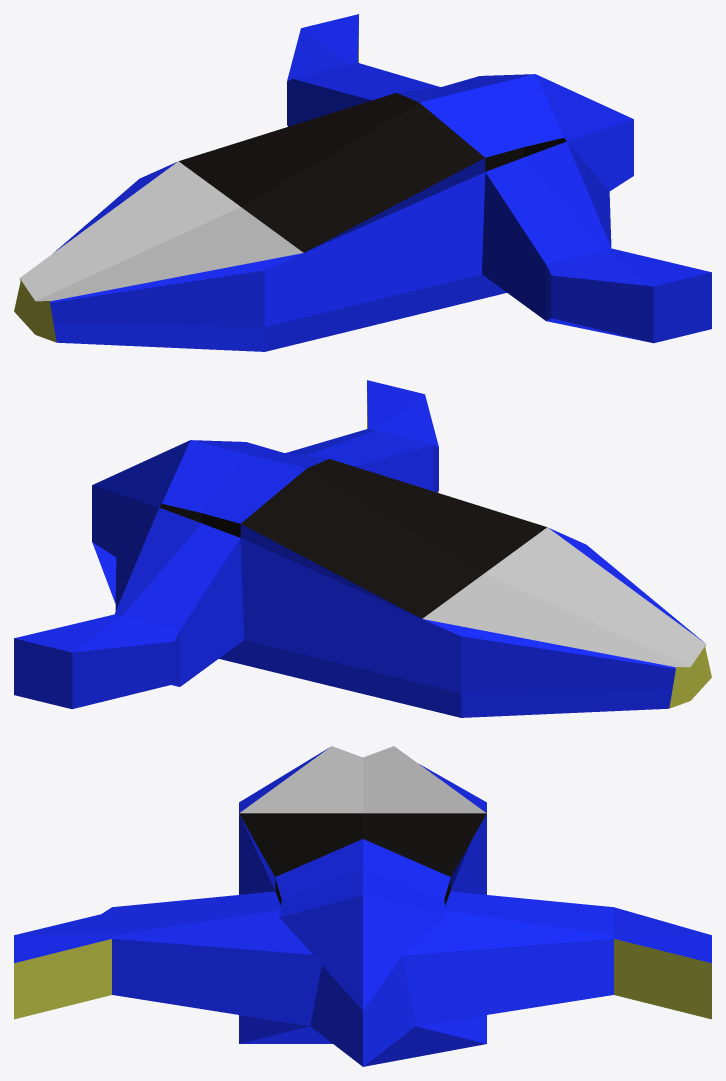
Rendered from ship1.obj.
3 views of the same model, one above another, from view 1: azimuth 30°, elevation 25°; view 2: azimuth 150°, elevation 25°; view 3: azimuth 270°, elevation 25° (orthographic).
Parts seen in each view (by area): view 1: Cube; view 2: Cube; view 3: Cube.
Boxes of the visible parts, <box> form: Cube: <box>14,14,711,351</box>; Cube: <box>14,380,711,717</box>; Cube: <box>14,746,711,1066</box>.
Bounding box in the file's own units: 5.52 × 1.33 × 5.63.
